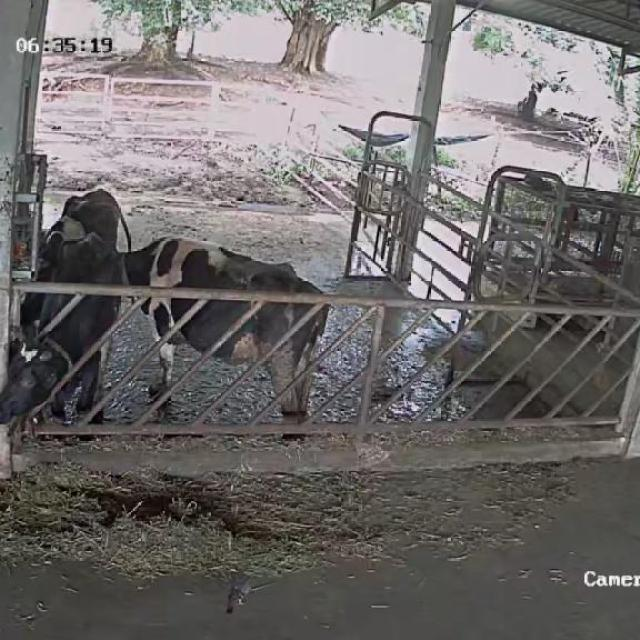feeding: (0, 231, 120, 438)
standing: (129, 232, 334, 429), (20, 188, 121, 338)
